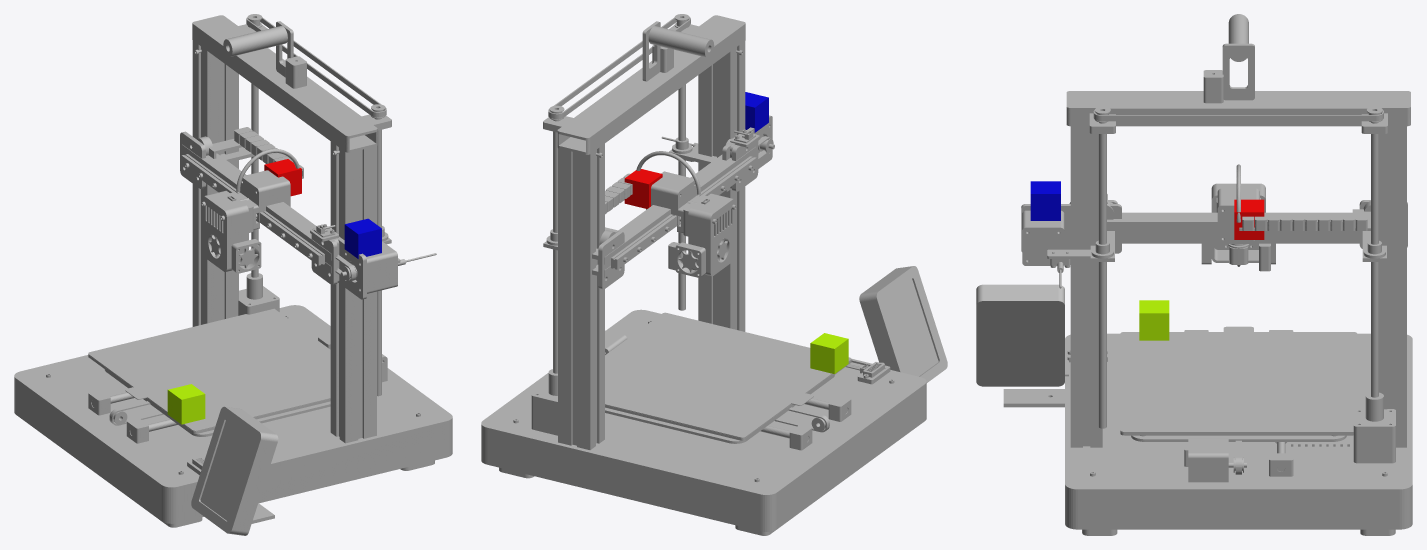
Rendered from 3d_printer.glb.
The picture shows the model from 3 angles, left to right: view 1: azimuth 30°, elevation 25°; view 2: azimuth 150°, elevation 25°; view 3: azimuth 270°, elevation 25°; orthographic projection. The views are drawn at different scales.
Parts seen in each view (by area): view 1: digital_twin, HumiditySensor, Accelerometer, Temperaturesensor; view 2: digital_twin, HumiditySensor, Temperaturesensor, Accelerometer; view 3: digital_twin, HumiditySensor, Accelerometer, Temperaturesensor.
Boxes of the visible parts, x1,y1,x2,y2 form: digital_twin: (14, 14, 452, 535); HumiditySensor: (167, 384, 205, 424); Accelerometer: (344, 218, 381, 258); Temperaturesensor: (264, 159, 301, 196); digital_twin: (481, 14, 947, 535); HumiditySensor: (810, 333, 848, 373); Temperaturesensor: (624, 169, 662, 208); Accelerometer: (745, 92, 768, 132); digital_twin: (976, 14, 1412, 535); HumiditySensor: (1139, 300, 1169, 340); Accelerometer: (1030, 181, 1060, 220); Temperaturesensor: (1234, 199, 1264, 239).
Size of the model in its own units: 366 by 491 by 433.
